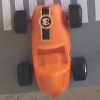carro: (15, 5, 85, 96)
